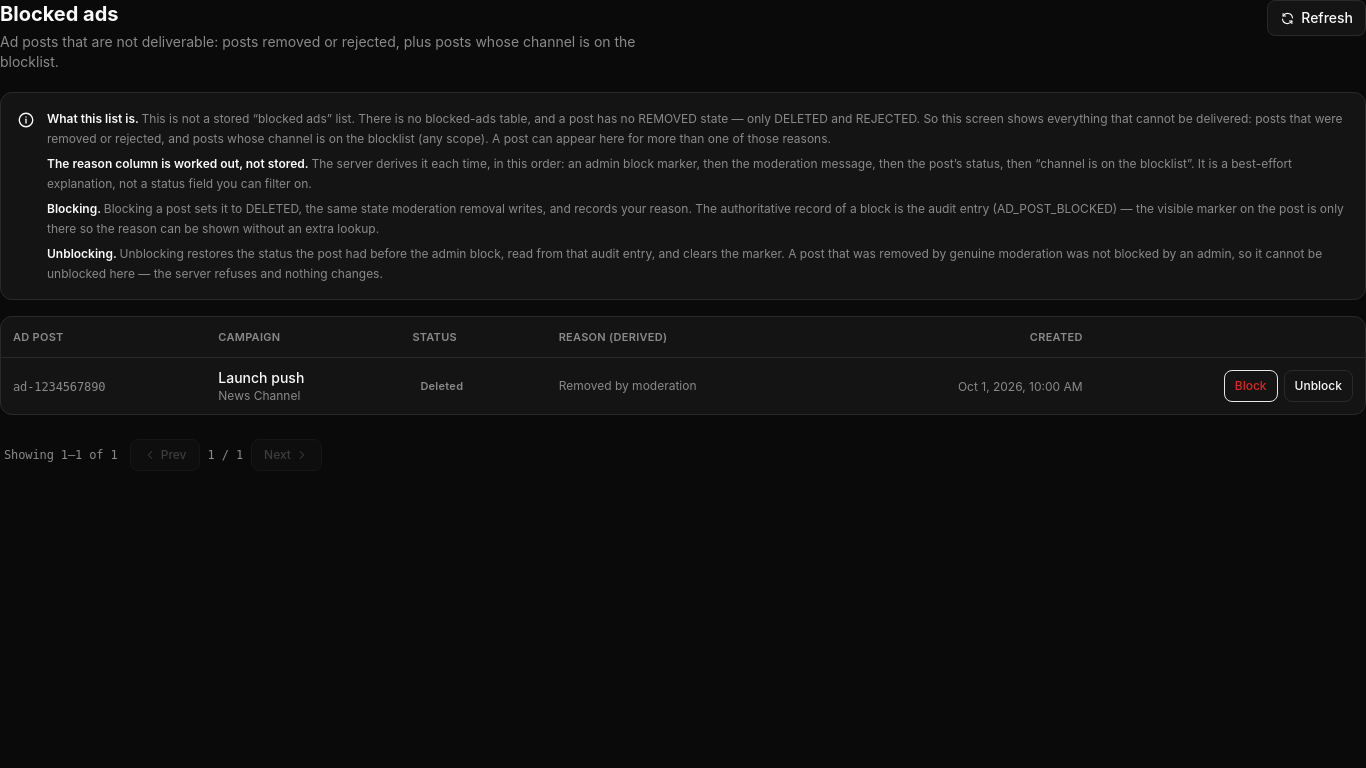
BlockedAdsPage › renders the block confirmation with the user-visible effect
Expected: the text "Launch push" is shown, top-left (218, 369), bottom-right (304, 386)
Click the button "Block". click: (1251, 386)
box: top-left (1224, 370), bottom-right (1278, 402)
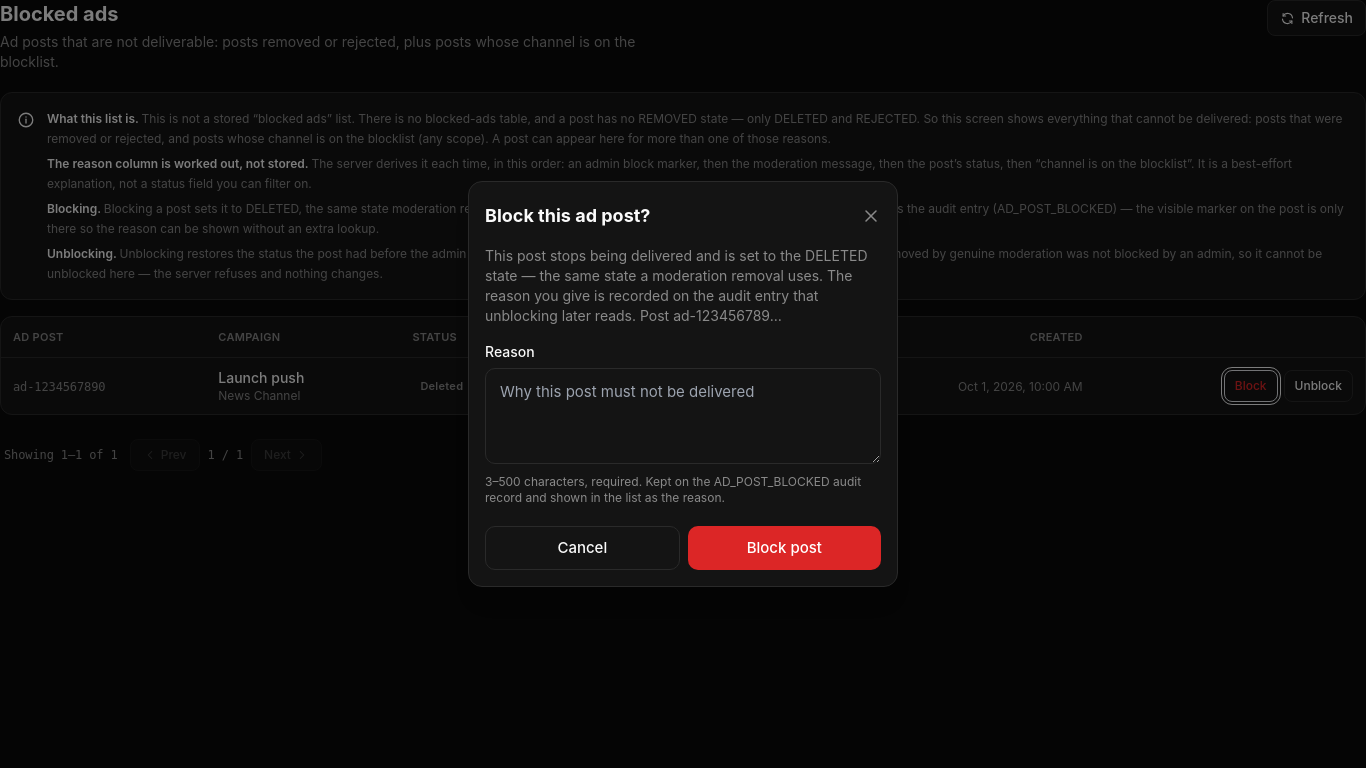
Expected: the heading "Block this ad post?" is shown, top-left (485, 202), bottom-right (650, 230)
Expected: the text "stops being delivered" is shown, top-left (485, 247), bottom-right (868, 324)
Expected: the text box labelled "Reason" is shown, top-left (485, 368), bottom-right (881, 464)
